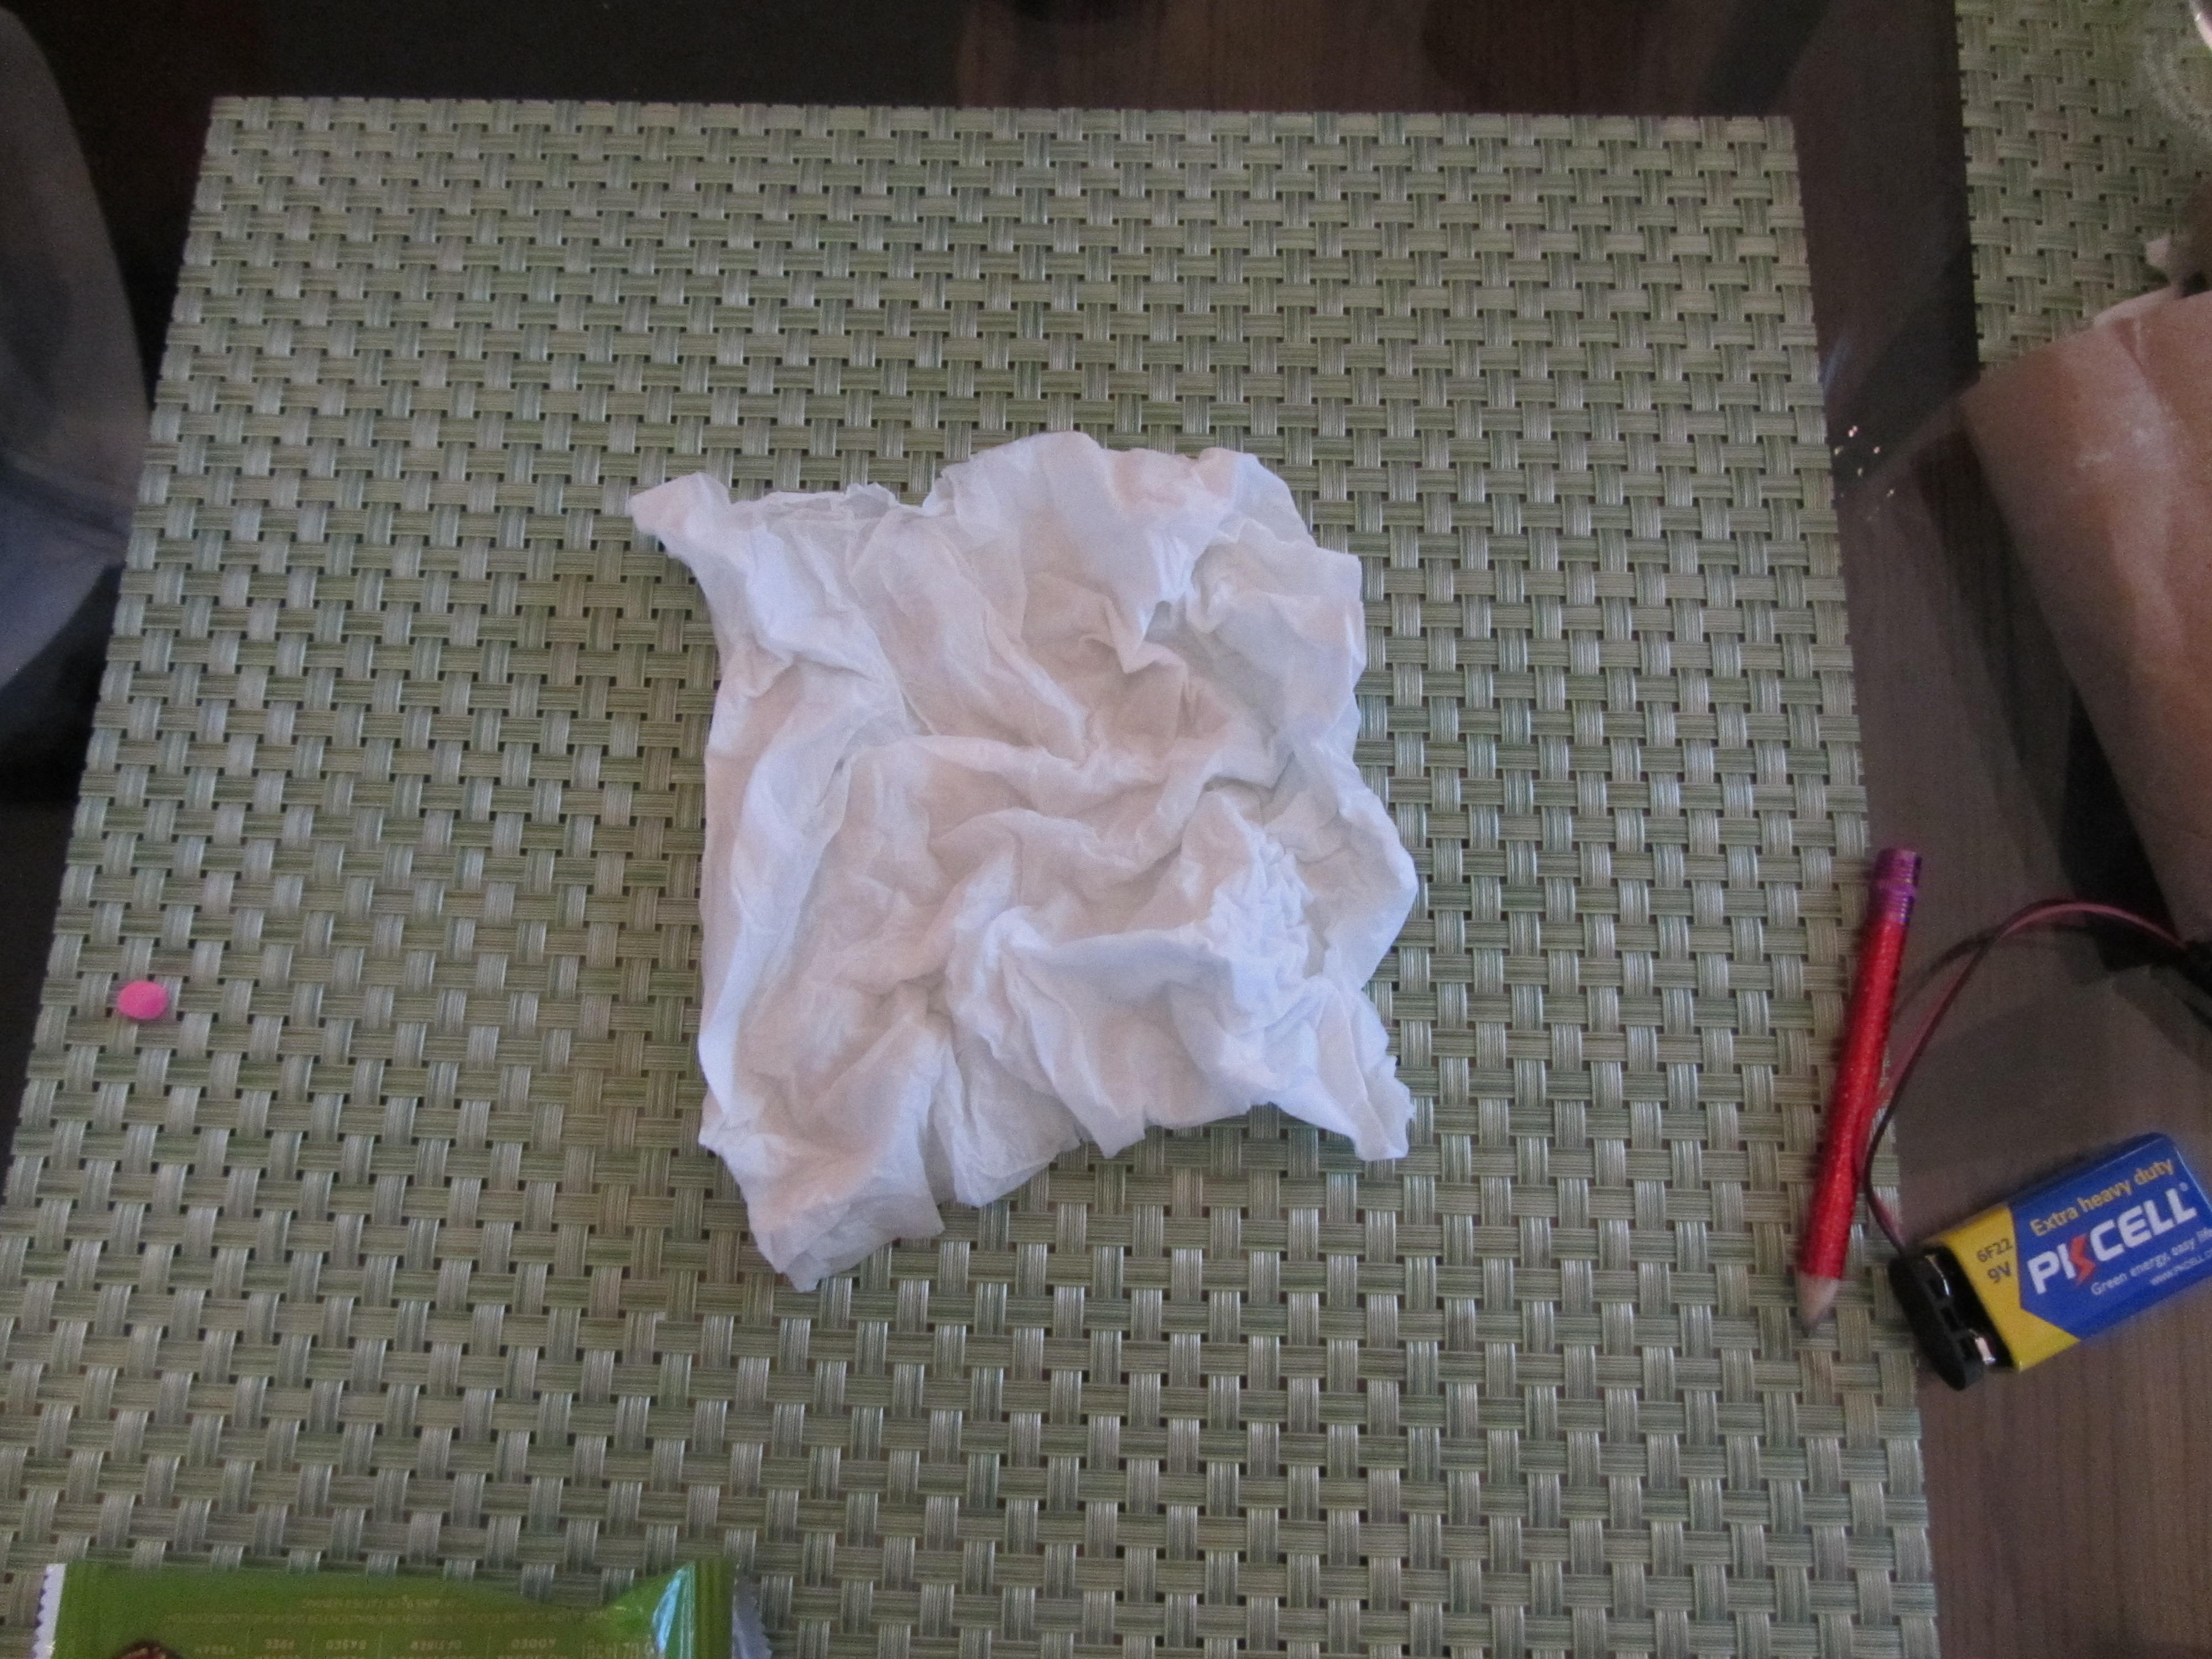tissue: (575, 443, 1433, 1302)
